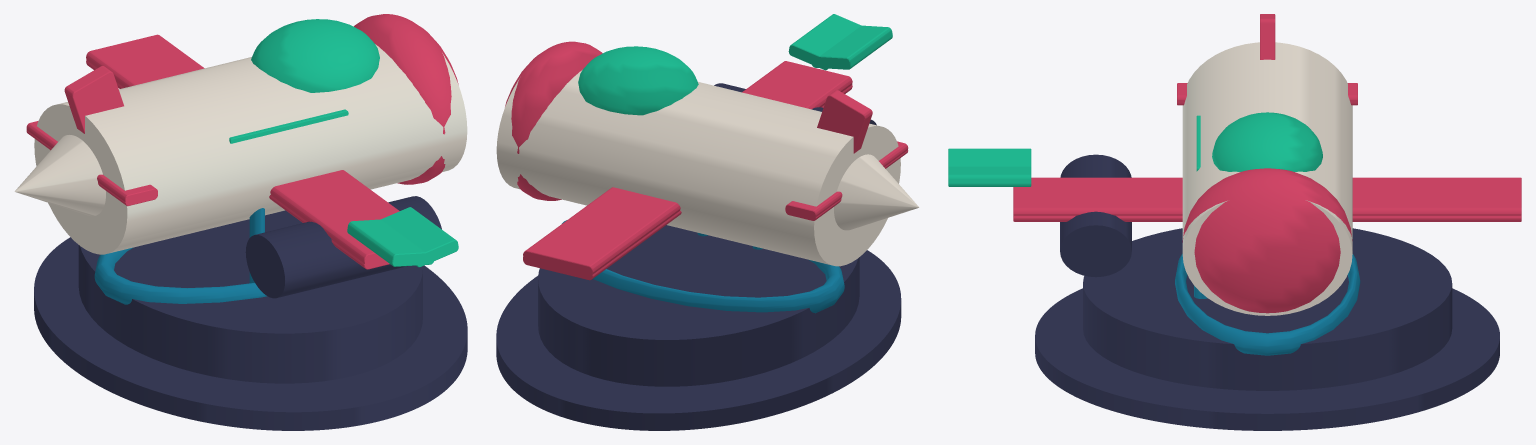
The model's file is 0343_航空航天图鉴_地球之声.glb.
3 renders of one model, left to right at view 1: azimuth 30°, elevation 25°; view 2: azimuth 150°, elevation 25°; view 3: azimuth 270°, elevation 25°, orthographic. The views are drawn at different scales.
Visible parts, largest first — view 1: card_0343; view 2: card_0343; view 3: card_0343.
Boxes of the visible parts, left/top/right/bottom form: card_0343: left=14, top=14, right=467, bottom=430; card_0343: left=496, top=14, right=919, bottom=430; card_0343: left=948, top=14, right=1521, bottom=430.
Size of the model in its own units: 1.52 by 1 by 1.93.
